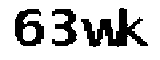3: (50, 5, 77, 49)
6: (13, 4, 47, 54)
k: (123, 5, 151, 52)
w: (75, 15, 122, 49)
